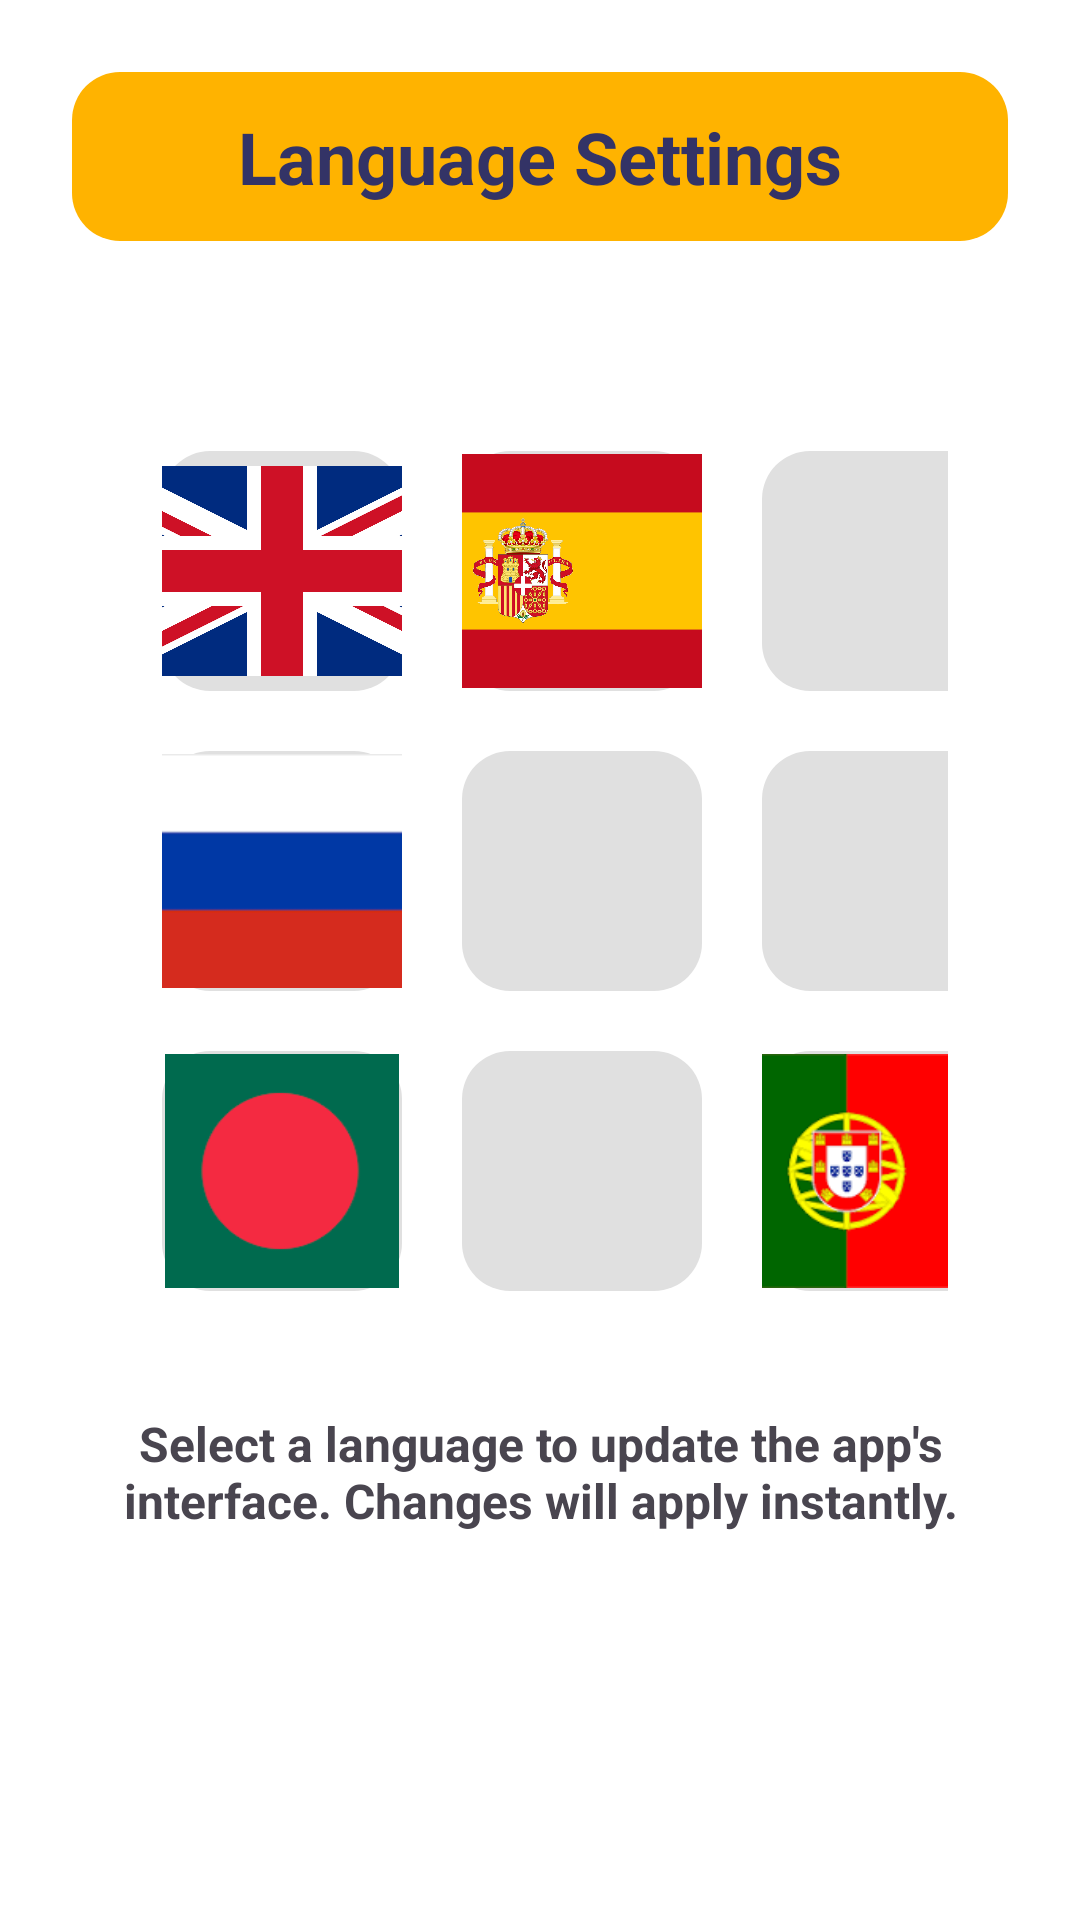

Icon click points for this 1080×1920 phone screenshot, format point (x, y):
bengali: point (282, 1171)
English: point (282, 571)
portuguese: point (855, 1171)
russian: point (282, 871)
Spanish: point (582, 571)
